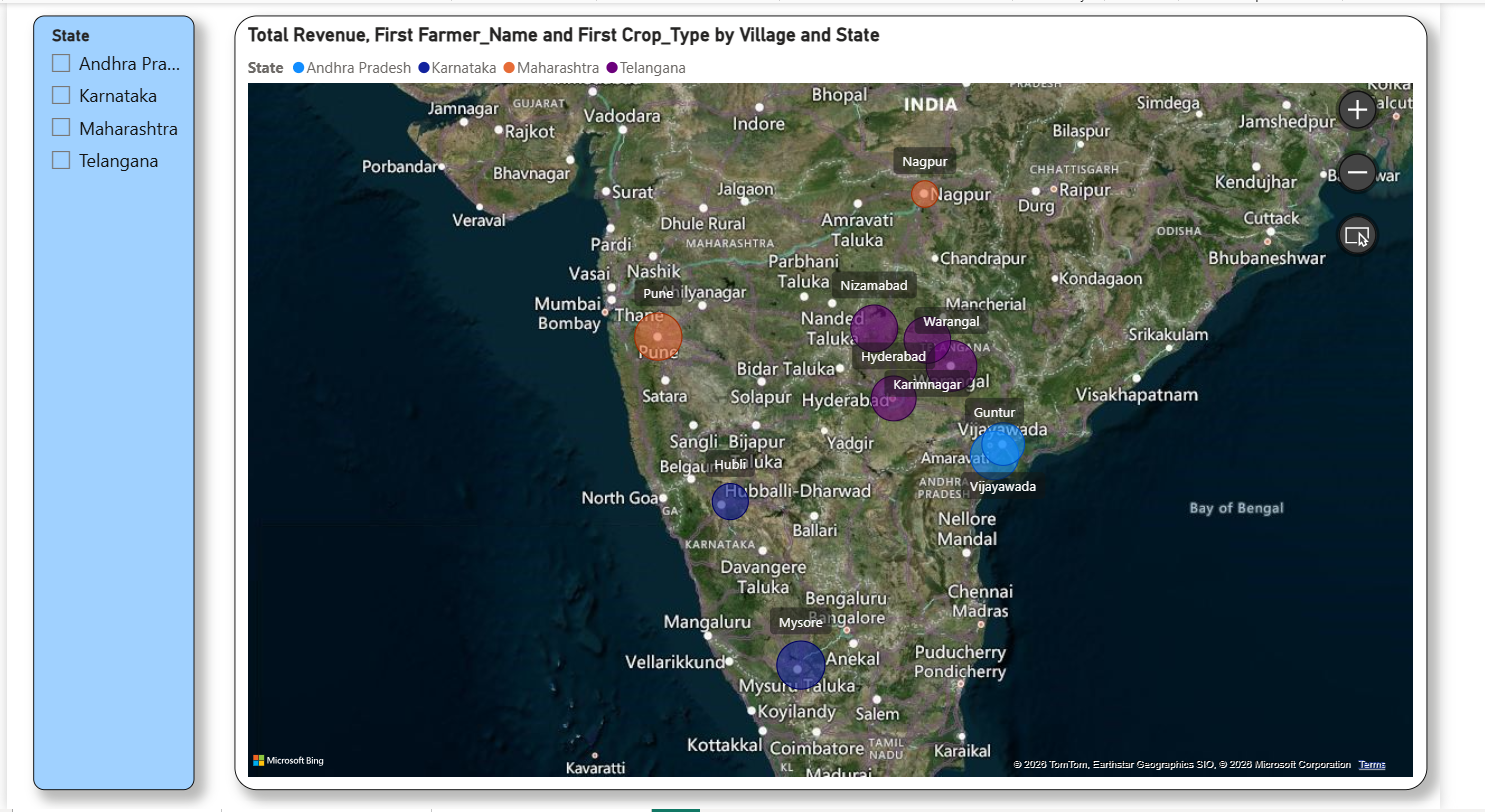

The dashboard page shown, as its layout file describes it:
{"tool":"powerbi","page":{"name":"Page 2 Map Dashboard","canvas":[1280,720],"ordinal":1},"visuals":[{"type":"map","fields":{"Category":["Farmers.Village"],"Series":["Farmers.State"],"Size":["Crops.Total Revenue"]},"box":[203.2,11.2,1065.3,692.3],"z":0},{"type":"slicer","fields":{"Values":["Farmers.State"]},"box":[23.4,11.2,144,692.3],"z":5000}]}

Visuals, with their boxes in screenshot pixels (x1, y1, x2, y2), scaled from the page's 1280x720 canvas onto the 1485x812 screenshot:
map - Farmers.Village x Farmers.State: [x1=236, y1=13, x2=1472, y2=793]
slicer - Farmers.State: [x1=27, y1=13, x2=194, y2=793]
